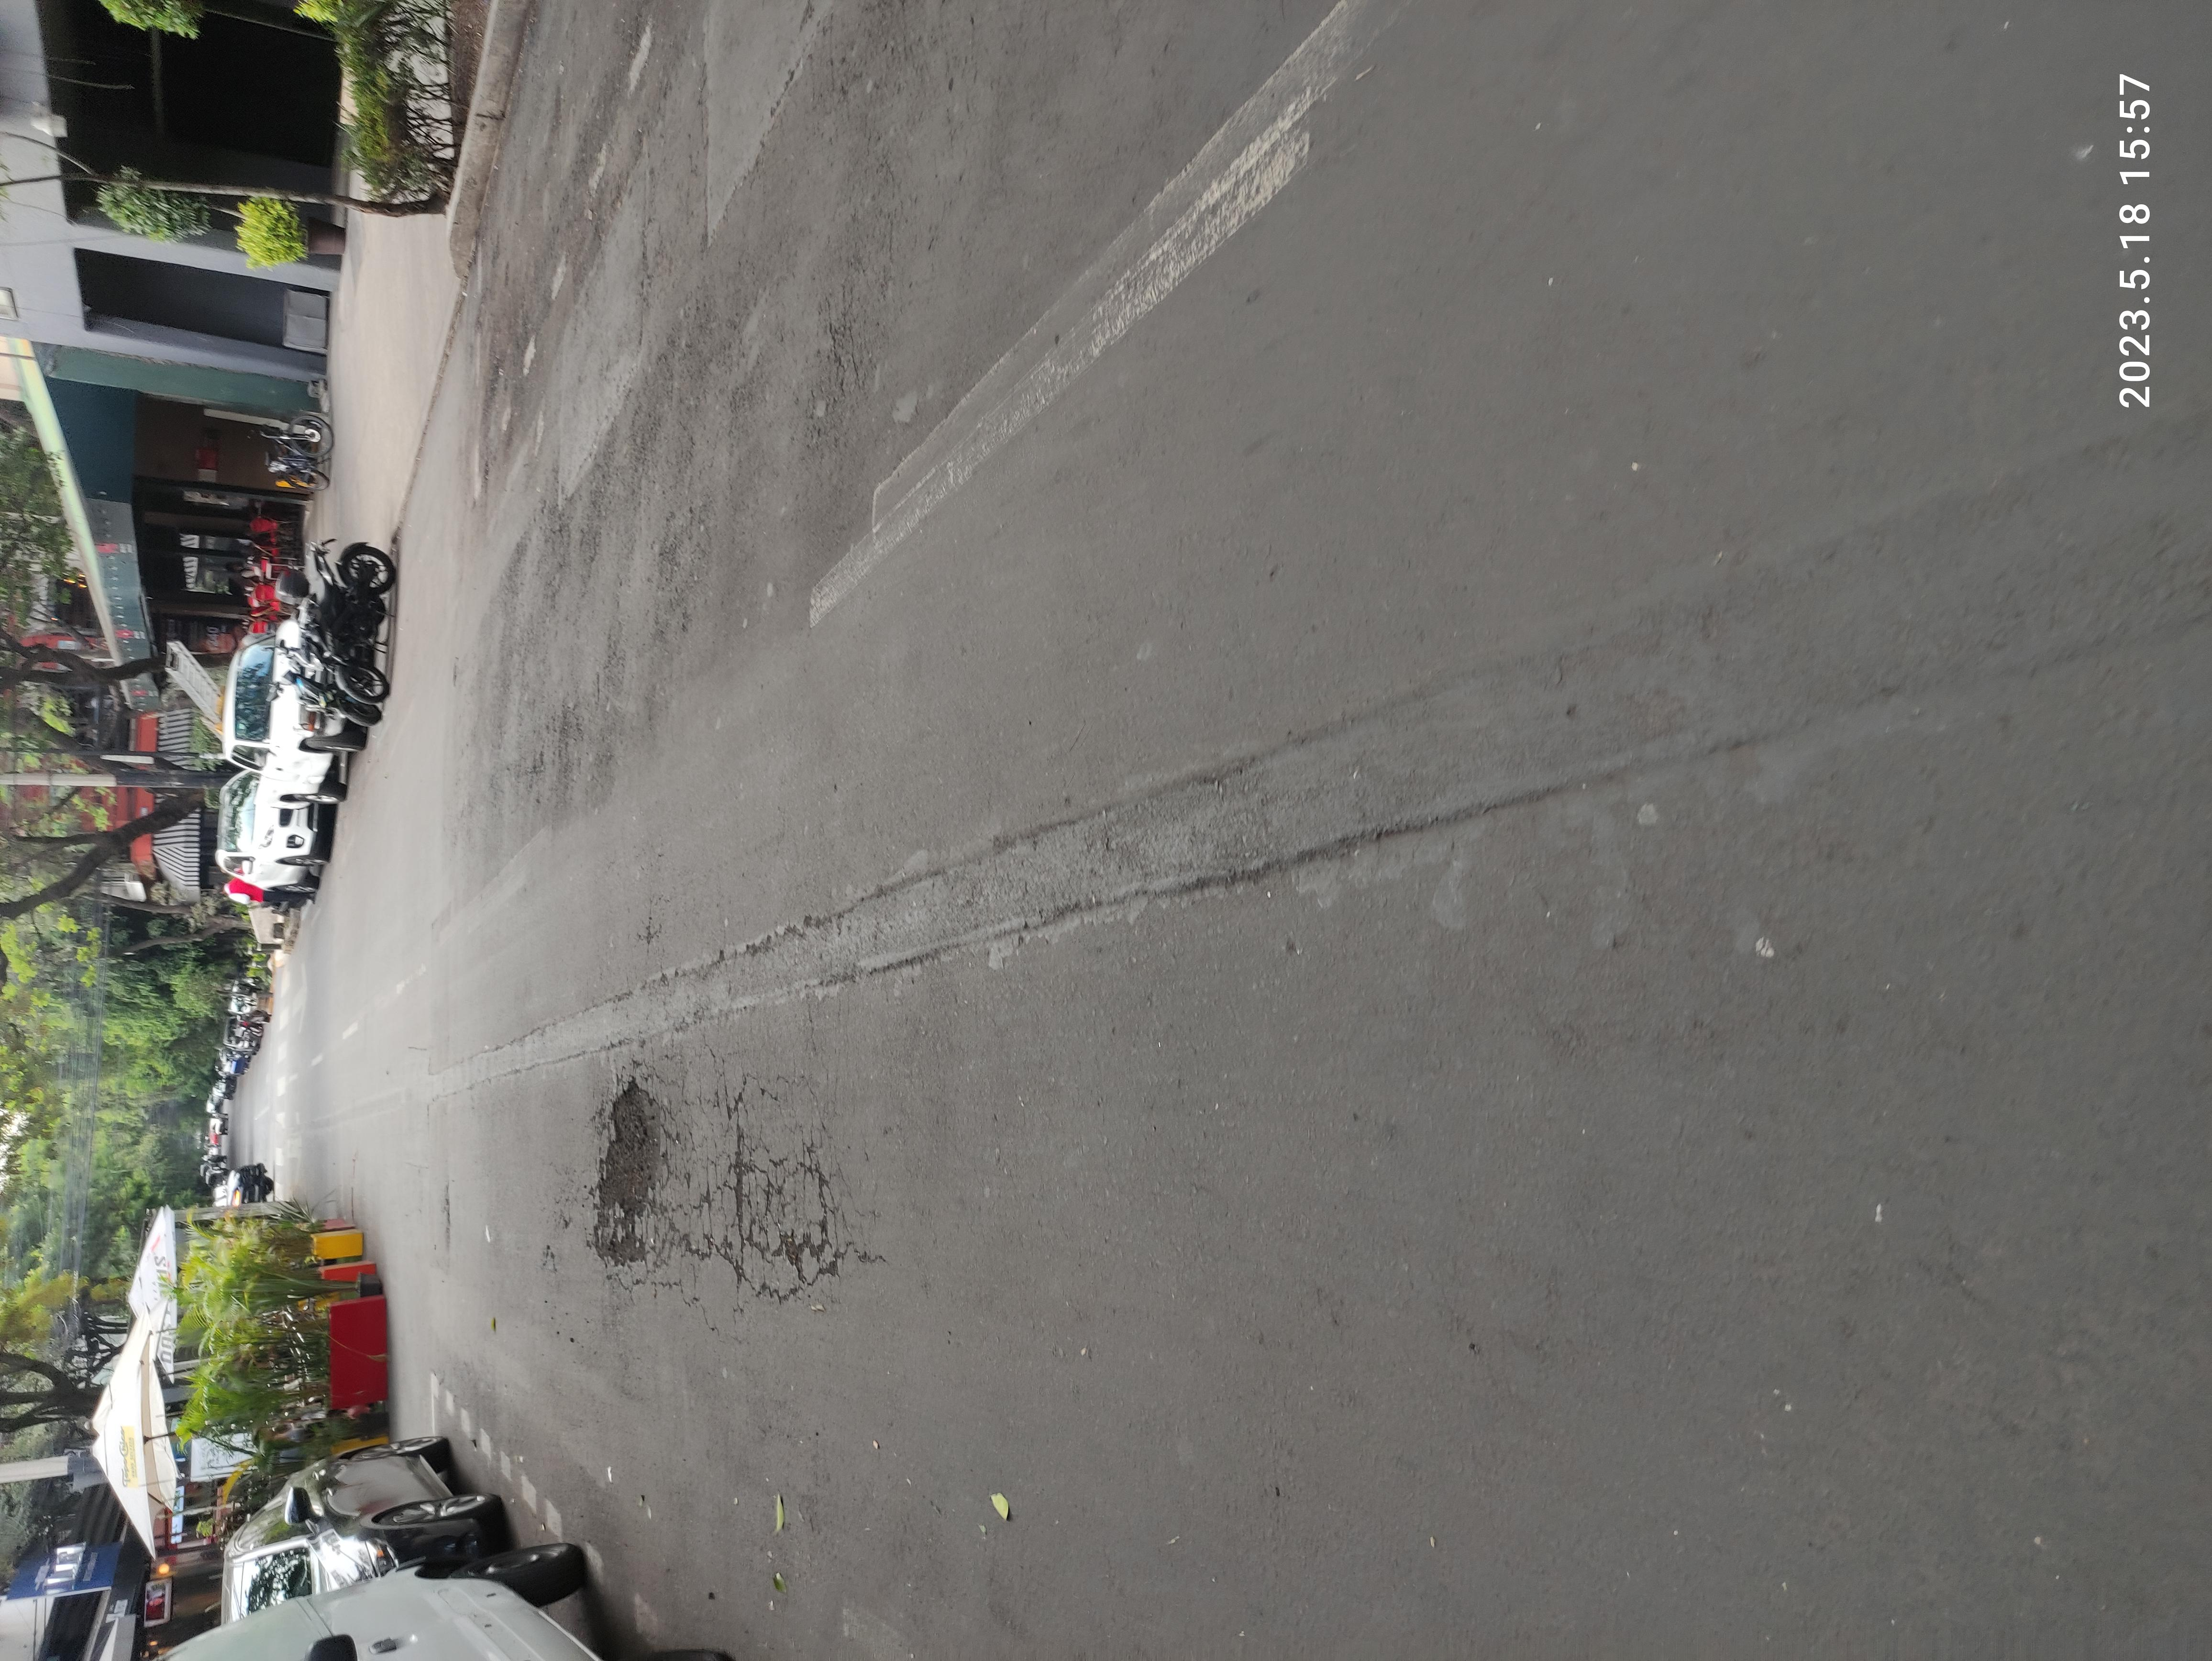alligator-crack: (468, 496, 792, 647)
crack: (546, 333, 638, 338)
pothole: (522, 440, 769, 497)
